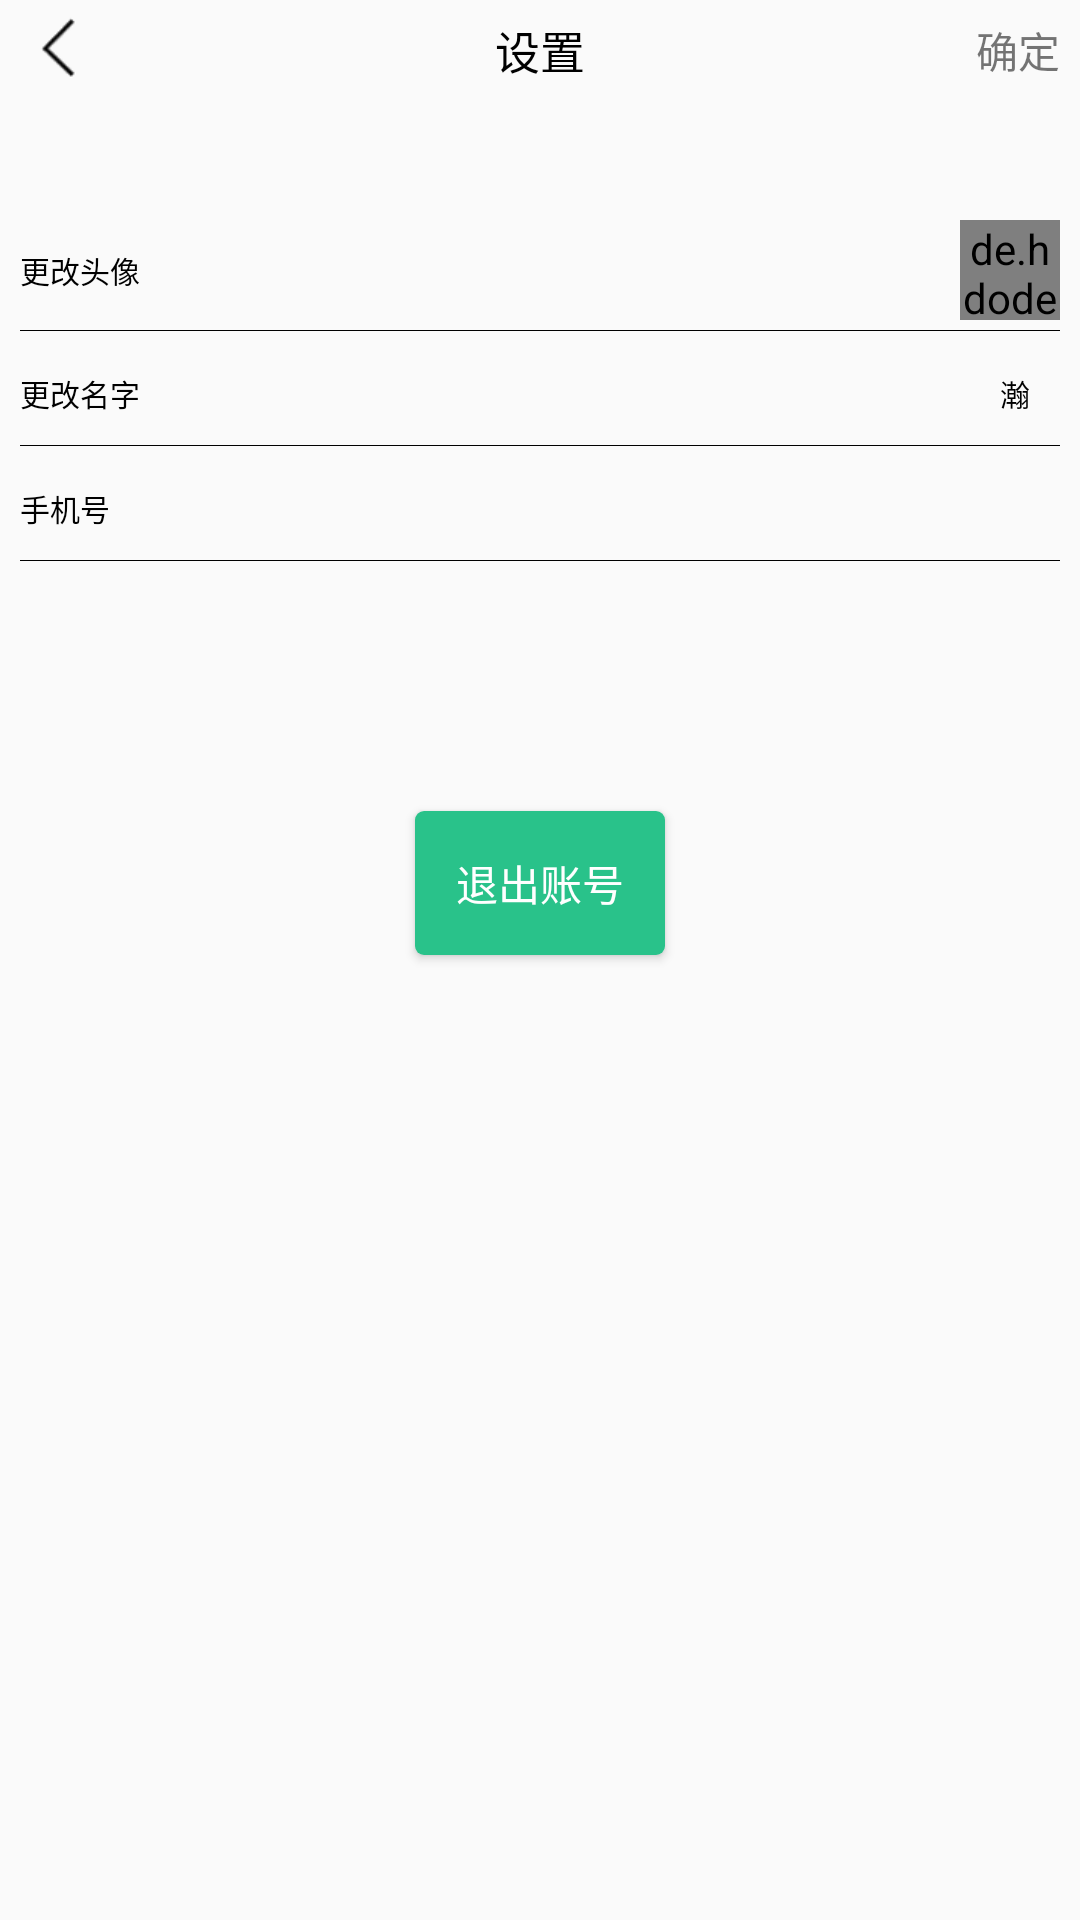

Icons on this 1080w x 1920h Android screen, each with its box as [x1=x1, y1=y1, x2=x2, y2=y2]:
back: [x1=42, y1=19, x2=75, y2=77]
